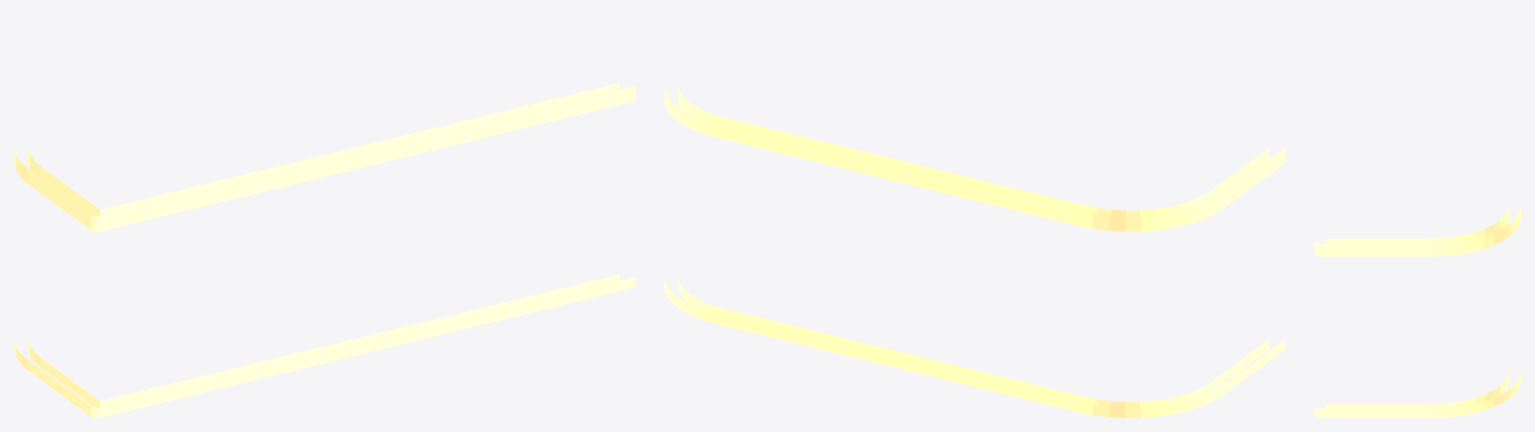
The model's file is mw_strip_c.glb.
The picture shows the model from 3 angles, left to right: view 1: azimuth 30°, elevation 25°; view 2: azimuth 150°, elevation 25°; view 3: azimuth 270°, elevation 25°; orthographic projection. The views are drawn at different scales.
Visible parts, largest first — view 1: strip; view 2: strip; view 3: strip.
Part boxes in pixels (left/top/right/bottom): strip: left=14, top=83, right=635, bottom=417; strip: left=664, top=83, right=1285, bottom=417; strip: left=1314, top=205, right=1520, bottom=417.
Bounding box in the file's own units: 2.26 × 0.8 × 0.86.
